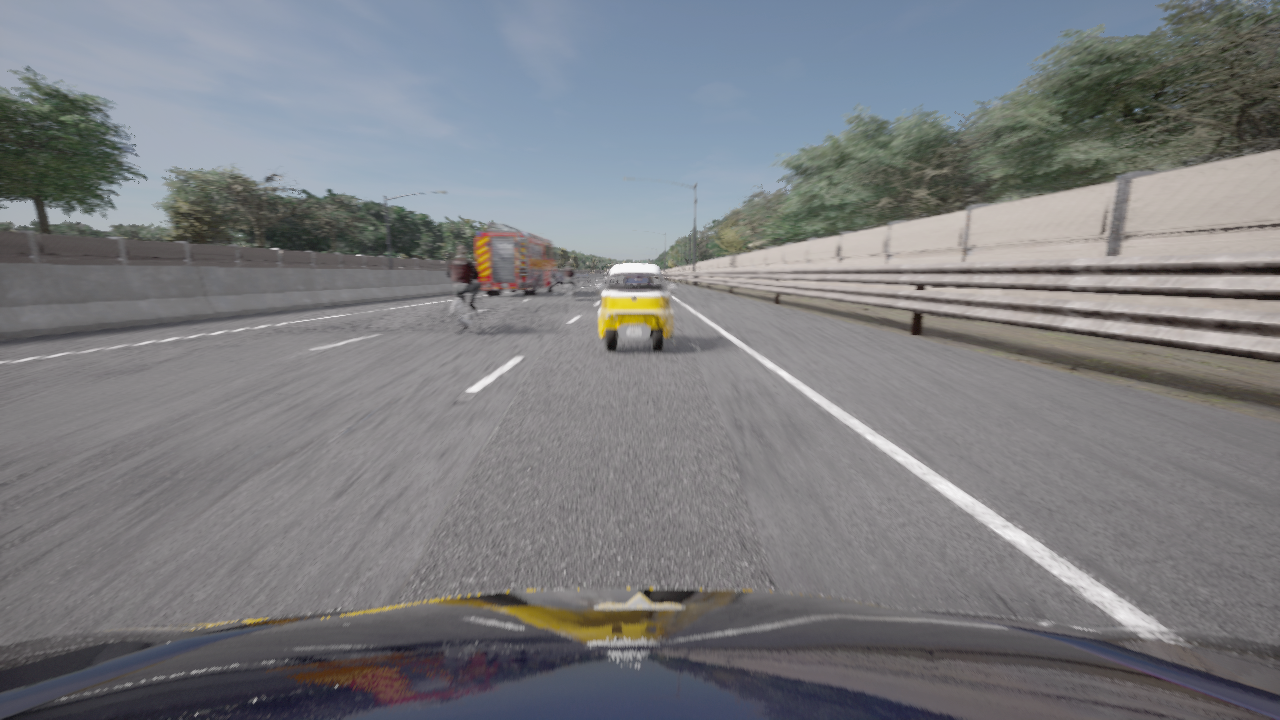cyclist: (0, 588, 1279, 719), (596, 264, 676, 351), (476, 222, 559, 295), (451, 294, 482, 335), (557, 271, 577, 286), (565, 283, 576, 300), (577, 272, 592, 283), (604, 271, 610, 283)
